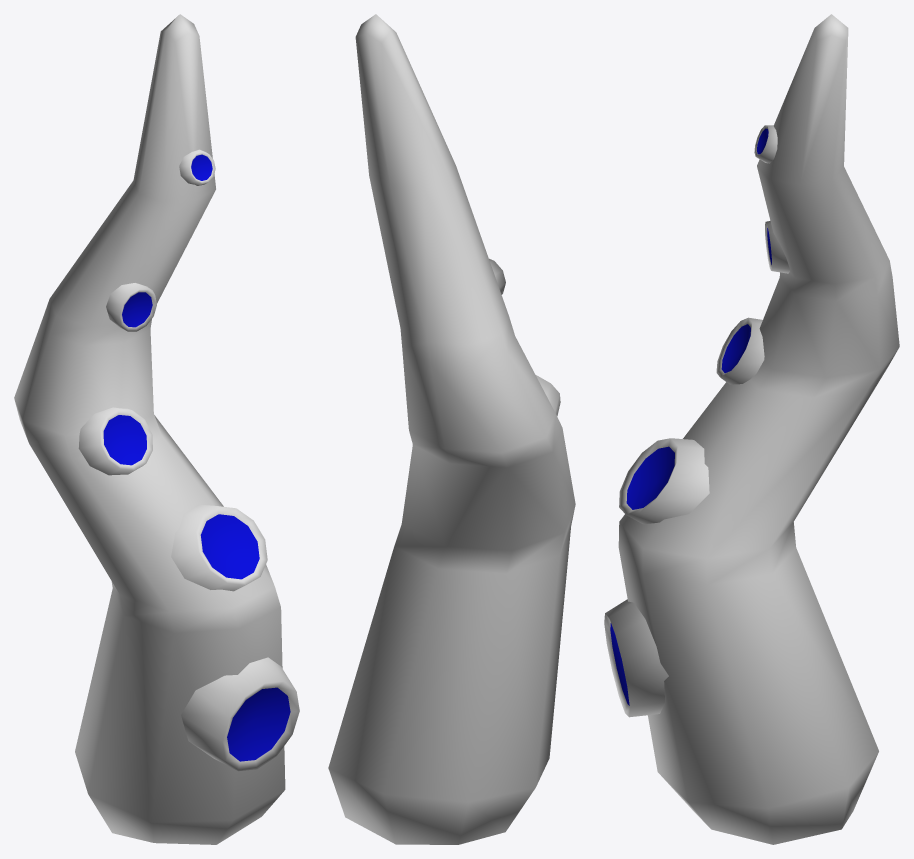
File: SM_Tentacle_Big.fbx
3 views of the same model, side by side, from view 1: azimuth 30°, elevation 25°; view 2: azimuth 150°, elevation 25°; view 3: azimuth 270°, elevation 25° (orthographic). The views are drawn at different scales.
Parts seen in each view (by area): view 1: Tentacle_Big; view 2: Tentacle_Big; view 3: Tentacle_Big.
Part boxes in pixels (bbox=[...]): Tentacle_Big: bbox=[14, 14, 299, 844]; Tentacle_Big: bbox=[328, 14, 575, 844]; Tentacle_Big: bbox=[604, 14, 899, 844].
Bounding box in the file's own units: 335 × 1144 × 369.
